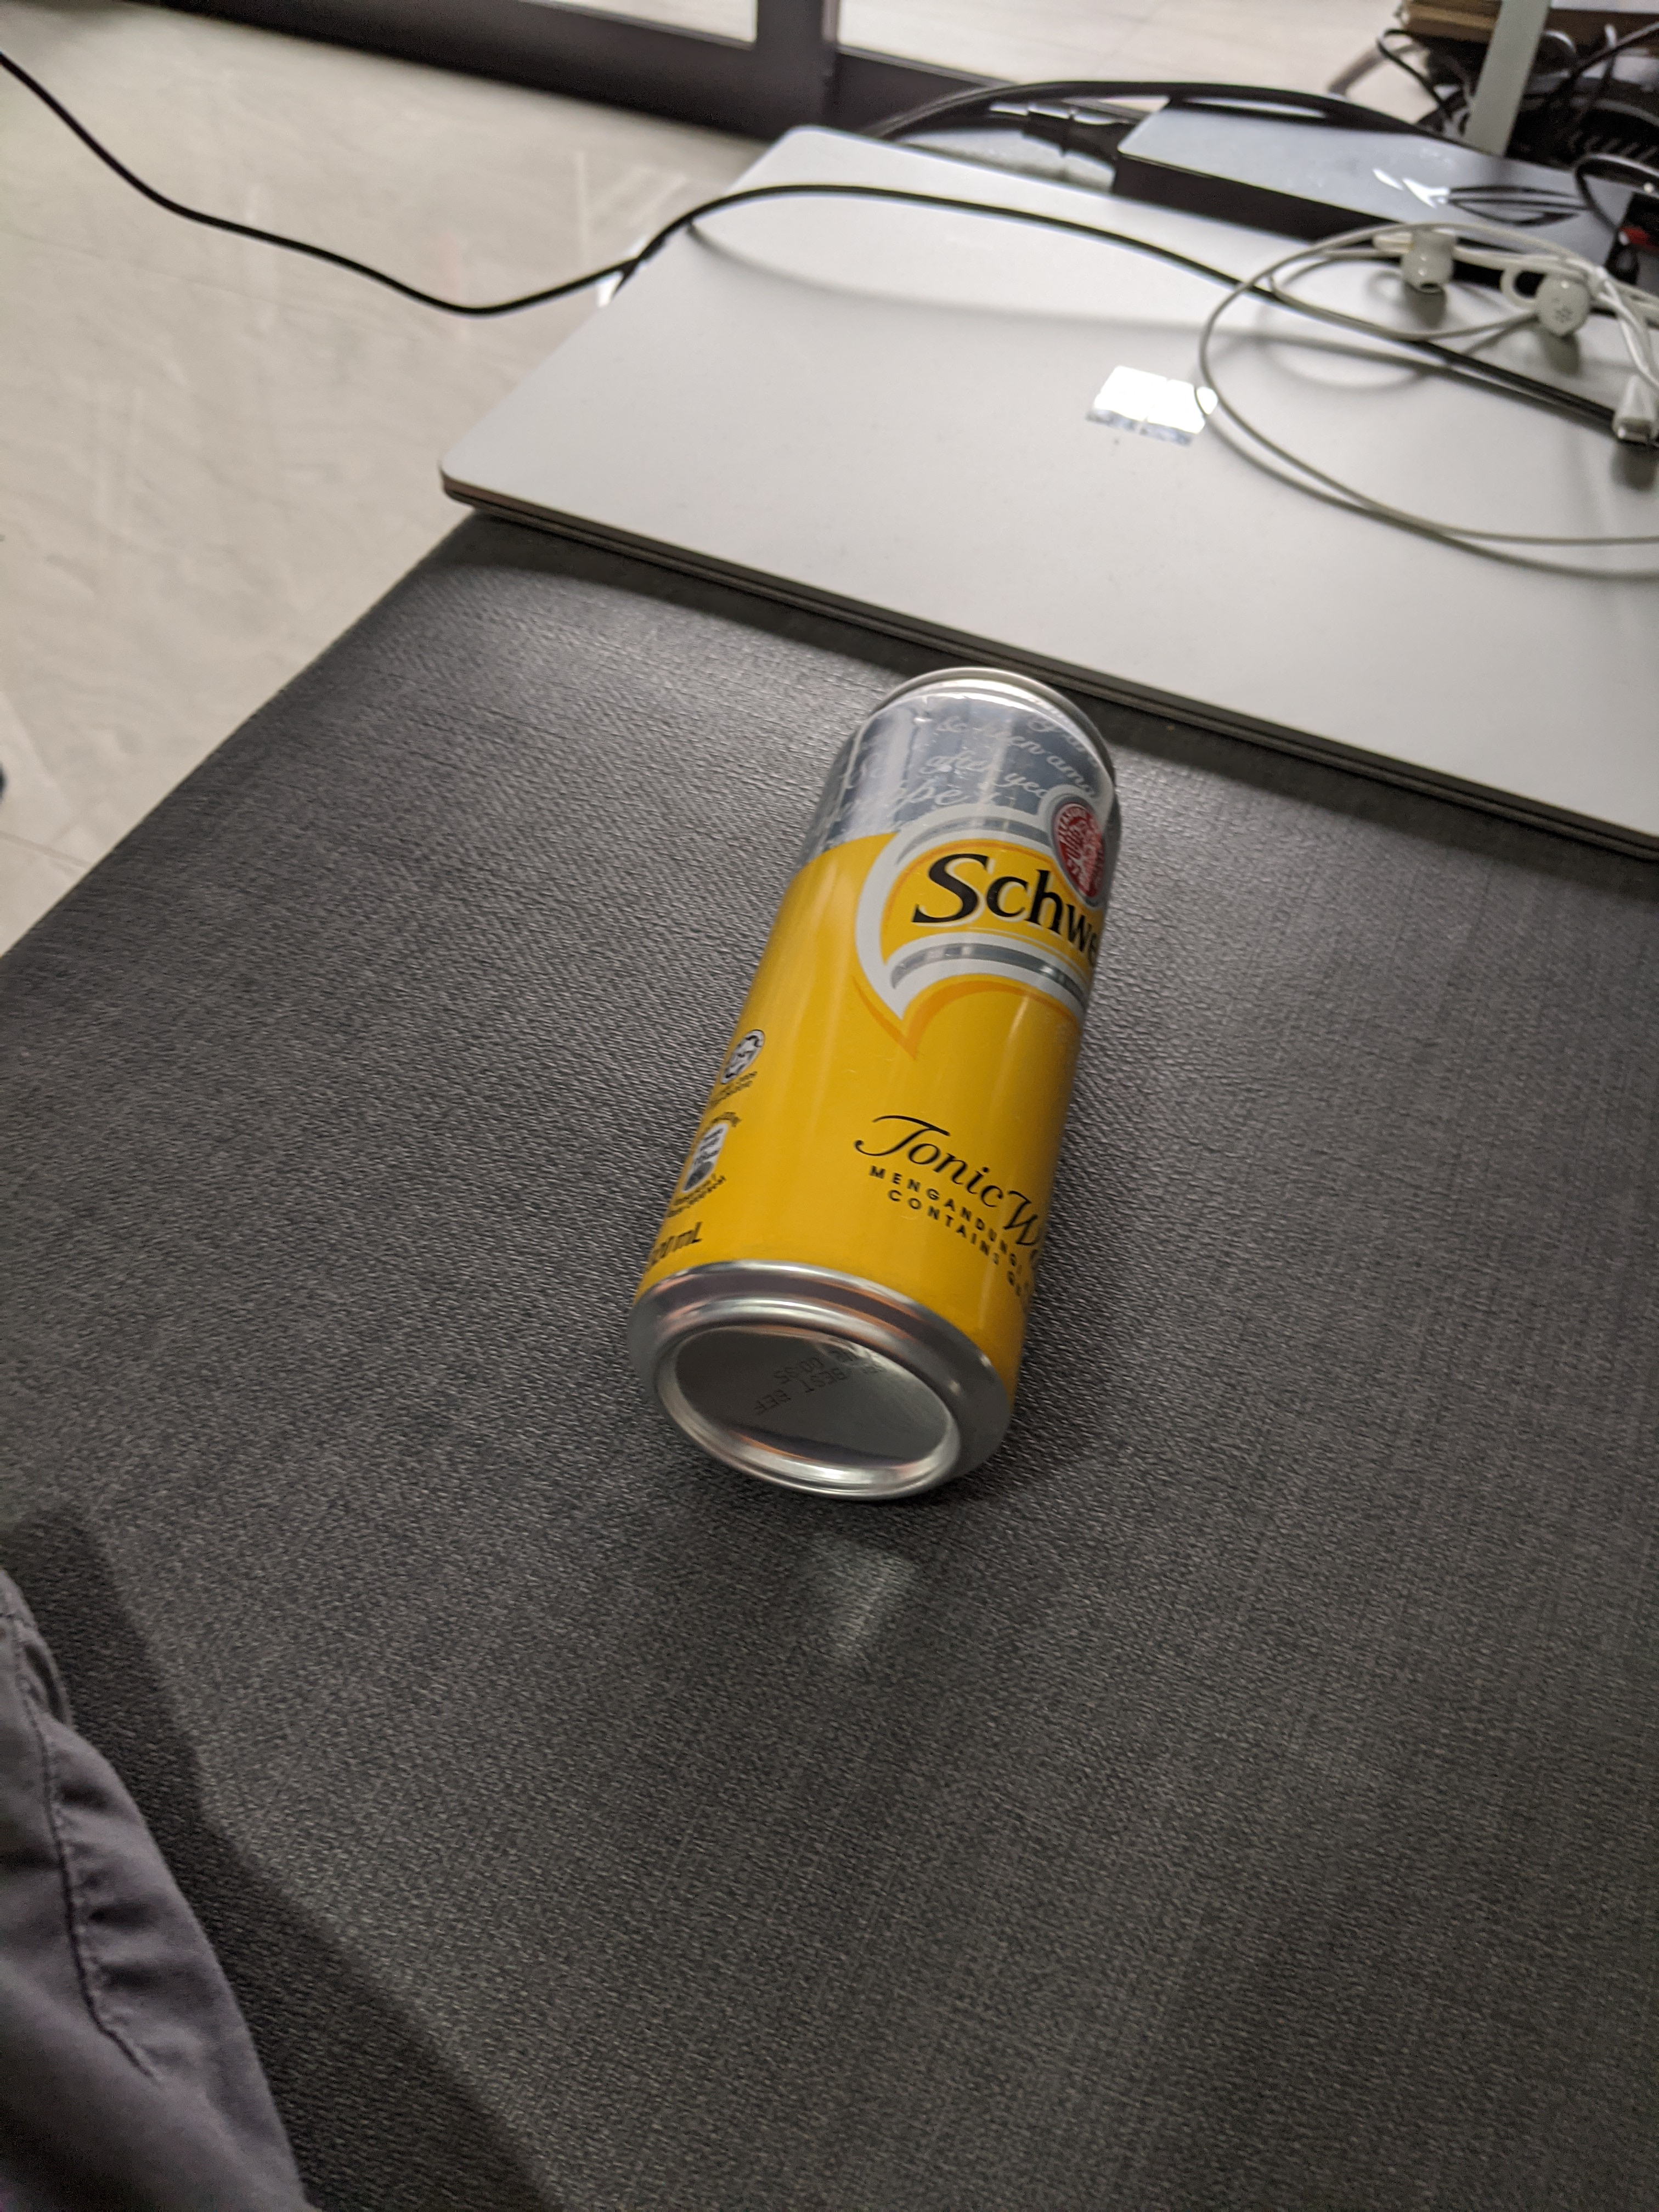schweppes drink can tonic water: (596, 632, 1204, 1543)
